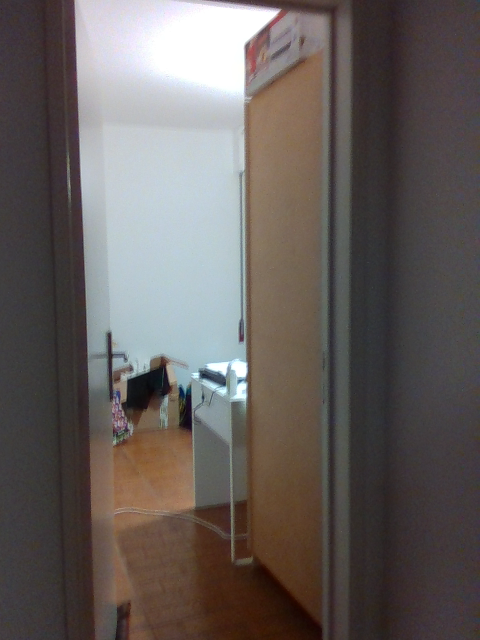open: (240, 0, 363, 639)
